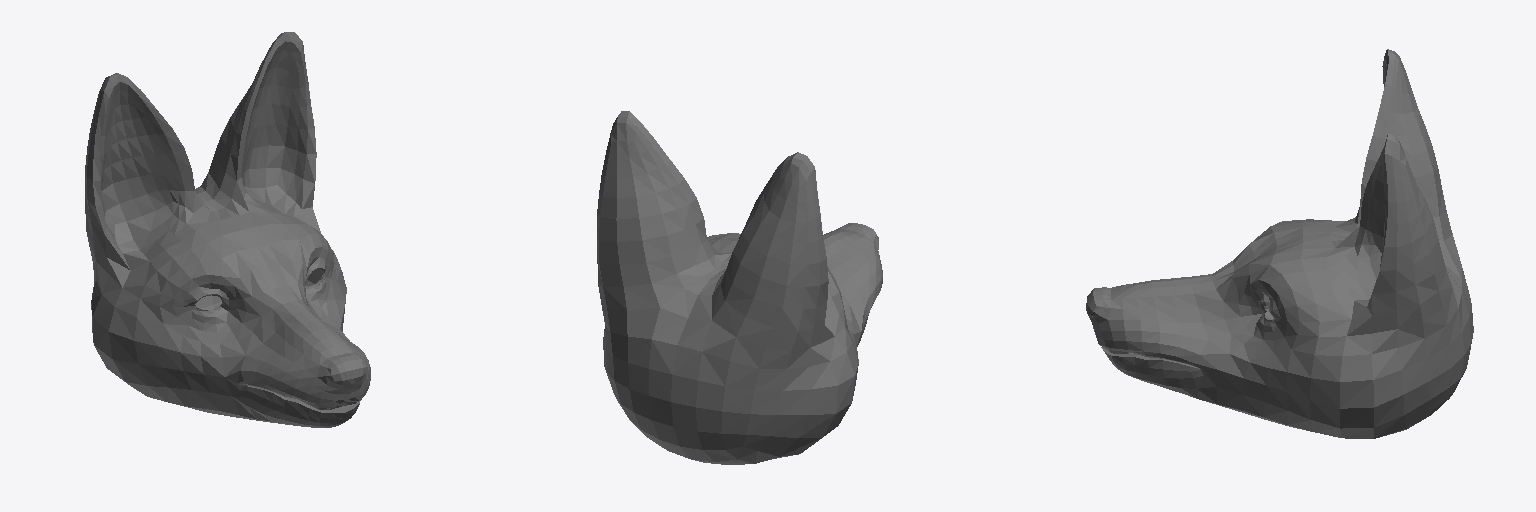
Rendered from mellaLoPolyUV.obj.
3 renders of one model, left to right at view 1: azimuth 30°, elevation 25°; view 2: azimuth 150°, elevation 25°; view 3: azimuth 270°, elevation 25°, orthographic.
Parts seen in each view (by area): view 1: mella_low_poly_001; view 2: mella_low_poly_001; view 3: mella_low_poly_001.
Part boxes in pixels (bbox=[...]): mella_low_poly_001: bbox=[85, 32, 370, 427]; mella_low_poly_001: bbox=[597, 111, 882, 464]; mella_low_poly_001: bbox=[1086, 49, 1473, 438].
Bounding box in the file's own units: 21.04 × 28.1 × 30.13.